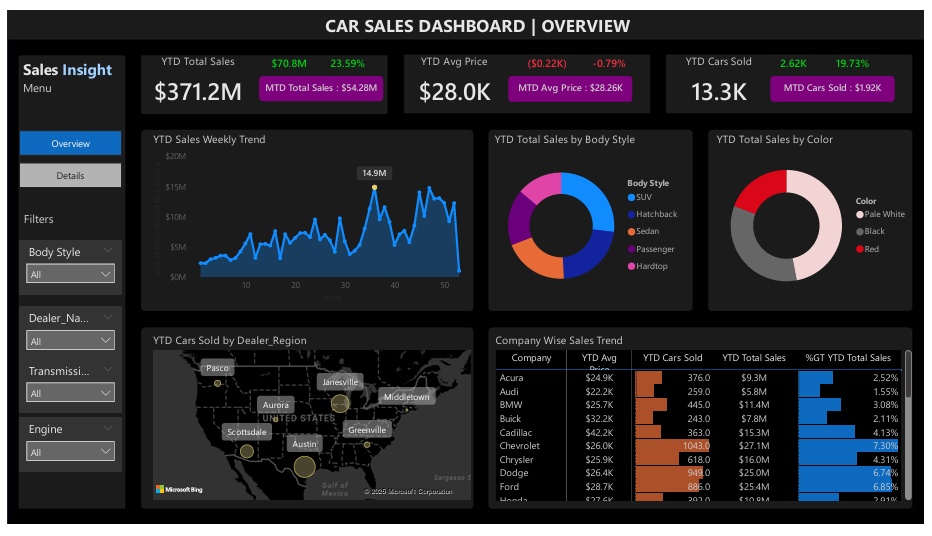

The page's visual inventory and layout, read from the dashboard file:
{"tool":"powerbi","page":{"name":"Overview","canvas":[1280,720],"ordinal":0},"visuals":[{"type":"card","title":"YTD Total Sales","fields":{"Values":["CAR DATASET.YTD Total Sales"]},"box":[180.9,61,171.1,82.6],"z":0},{"type":"card","fields":{"Values":["CAR DATASET.Sales Difference"]},"box":[340.2,61,108.2,31.5],"z":1000},{"type":"card","fields":{"Values":["CAR DATASET.YOY Sales Growth"]},"box":[426.7,61,98.3,31.5],"z":2000},{"type":"card","fields":{"Values":["CAR DATASET.MTD KPI"]},"box":[352,92.4,173,35],"z":3000},{"type":"card","title":"YTD Avg Price","fields":{"Values":["CAR DATASET.YTD Avg Price"]},"box":[538.8,61,171.1,82.6],"z":4000},{"type":"card","fields":{"Values":["CAR DATASET.Avg Price Diff"]},"box":[700,61,108.2,31.5],"z":5000},{"type":"card","fields":{"Values":["CAR DATASET.YoY Avg Price Growth"]},"box":[786.5,61,108.2,31.5],"z":6000},{"type":"card","fields":{"Values":["CAR DATASET.MTD Avg Price KPI"]},"box":[700,92.4,173,35.4],"z":7000},{"type":"card","title":"YTD Cars Sold","fields":{"Values":["CAR DATASET.YTD Cars Sold"]},"box":[908.5,61,171.1,82.6],"z":8000},{"type":"card","fields":{"Values":["CAR DATASET.Cars Sold Diff"]},"box":[1044.1,61,108.2,31.5],"z":9000},{"type":"card","fields":{"Values":["CAR DATASET.YOY Car Sold Growth"]},"box":[1126.7,61,108.2,31.5],"z":10000},{"type":"card","fields":{"Values":["CAR DATASET.MTD Cars Sold KPI"]},"box":[1065.8,92.4,173,35.4],"z":11000},{"type":"areaChart","title":"YTD Sales Weekly Trend","fields":{"Category":["Calendar Table.Week"],"Y":["CAR DATASET.Price ($)","CAR DATASET.Max Point on Area Chart"]},"box":[198.6,169.1,454.2,243.8],"z":12000},{"type":"donutChart","fields":{"Category":["CAR DATASET.Body Style"],"Y":["CAR DATASET.YTD Total Sales"]},"box":[676.4,169.1,273.3,243.8],"z":13000},{"type":"donutChart","fields":{"Y":["CAR DATASET.YTD Total Sales"],"Category":["CAR DATASET.Color"]},"box":[986.4,169.3,281.5,244.1],"z":14000},{"type":"map","fields":{"Category":["CAR DATASET.Dealer_Region"],"Size":["CAR DATASET.YTD Cars Sold"]},"box":[198.9,450,454,239.1],"z":15000},{"type":"tableEx","title":"Company Wise Sales Trend","fields":{"Values":["CAR DATASET.Company","CAR DATASET.YTD Avg Price","CAR DATASET.YTD Cars Sold","CAR DATASET.YTD Total Sales1","CAR DATASET.YTD Total Sales"]},"box":[677,450,590.6,239.1],"z":16000},{"type":"textbox","box":[438.5,0,456.2,45.2],"z":17000},{"type":"slicer","fields":{"Values":["CAR DATASET.Body Style"]},"box":[16.8,321.5,142.9,75.6],"z":18000},{"type":"slicer","fields":{"Values":["CAR DATASET.Dealer_Name"]},"box":[16.8,413.9,142.9,73.5],"z":19000},{"type":"slicer","fields":{"Values":["CAR DATASET.Transmission"]},"box":[16.8,487.5,142.9,75.6],"z":20000},{"type":"slicer","fields":{"Values":["CAR DATASET.Engine"]},"box":[16.8,569.4,142.9,75.6],"z":21000},{"type":"textbox","box":[17.7,275.3,82.6,47.2],"z":22000},{"type":"textbox","box":[16.8,60.9,163.9,48.3],"z":23000},{"type":"textbox","box":[16.8,92.5,163.9,35.7],"z":24000},{"type":"pageNavigator","box":[16.8,168.1,142.9,79.8],"z":25000}]}

Visuals, with their boxes in screenshot pixels (x1, y1, x2, y2), scaled from the page's 1280x720 canvas onto the 932x536 screenshot:
"YTD Total Sales" card: box=[132, 45, 256, 107]
card - CAR DATASET.Sales Difference: box=[248, 45, 326, 69]
card - CAR DATASET.YOY Sales Growth: box=[311, 45, 382, 69]
card - CAR DATASET.MTD KPI: box=[256, 69, 382, 95]
"YTD Avg Price" card: box=[392, 45, 517, 107]
card - CAR DATASET.Avg Price Diff: box=[510, 45, 588, 69]
card - CAR DATASET.YoY Avg Price Growth: box=[573, 45, 651, 69]
card - CAR DATASET.MTD Avg Price KPI: box=[510, 69, 636, 95]
"YTD Cars Sold" card: box=[662, 45, 786, 107]
card - CAR DATASET.Cars Sold Diff: box=[760, 45, 839, 69]
card - CAR DATASET.YOY Car Sold Growth: box=[820, 45, 899, 69]
card - CAR DATASET.MTD Cars Sold KPI: box=[776, 69, 902, 95]
"YTD Sales Weekly Trend" areaChart: box=[145, 126, 475, 307]
donutChart - CAR DATASET.Body Style x CAR DATASET.YTD Total Sales: box=[493, 126, 692, 307]
donutChart - CAR DATASET.YTD Total Sales x CAR DATASET.Color: box=[718, 126, 923, 308]
map - CAR DATASET.Dealer_Region x CAR DATASET.YTD Cars Sold: box=[145, 335, 475, 513]
"Company Wise Sales Trend" tableEx: box=[493, 335, 923, 513]
textbox: box=[319, 0, 651, 34]
slicer - CAR DATASET.Body Style: box=[12, 239, 116, 296]
slicer - CAR DATASET.Dealer_Name: box=[12, 308, 116, 363]
slicer - CAR DATASET.Transmission: box=[12, 363, 116, 419]
slicer - CAR DATASET.Engine: box=[12, 424, 116, 480]
textbox: box=[13, 205, 73, 240]
textbox: box=[12, 45, 132, 81]
textbox: box=[12, 69, 132, 95]
pageNavigator: box=[12, 125, 116, 185]
